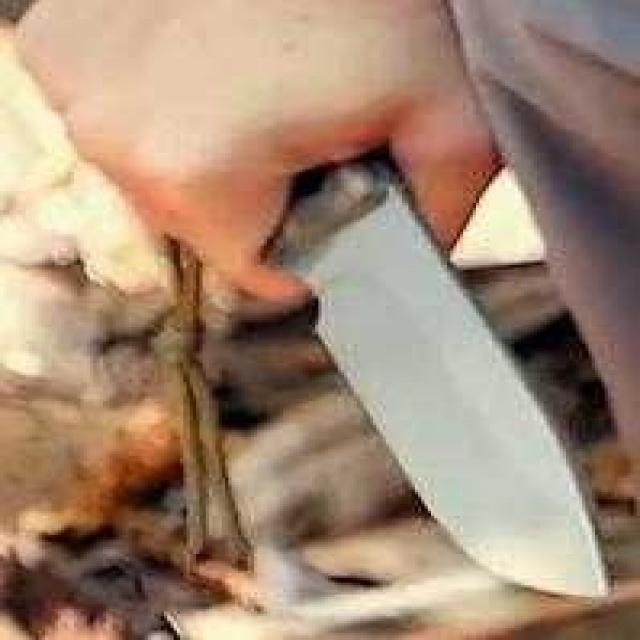Knife: (172, 0, 622, 613)
